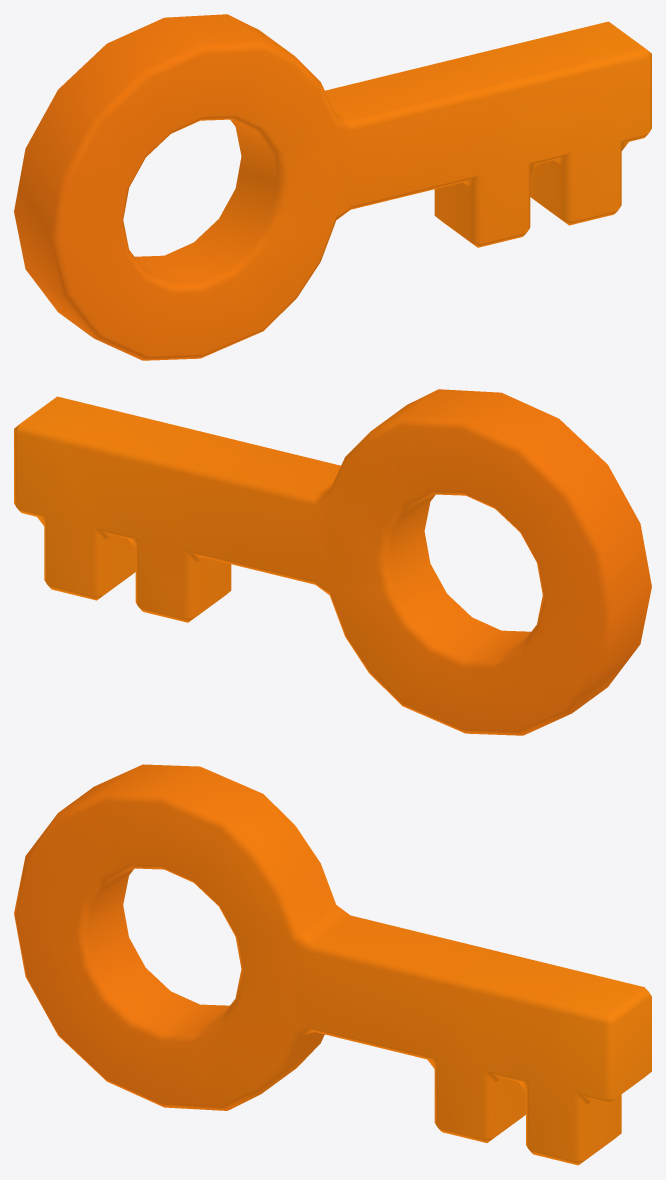
The model's file is key_001.glb.
3 views of the same model, one above another, from view 1: azimuth 30°, elevation 25°; view 2: azimuth 150°, elevation 25°; view 3: azimuth 330°, elevation 25° (orthographic).
Parts seen in each view (by area): view 1: key_001; view 2: key_001; view 3: key_001.
Part boxes in pixels (left/top/right/bottom): key_001: left=14, top=14, right=651, bottom=360; key_001: left=14, top=389, right=651, bottom=735; key_001: left=14, top=764, right=651, bottom=1165.
Size of the model in its own units: 1.29 by 0.6441 by 0.1647.
Materials: 1 (1 with a texture image).
